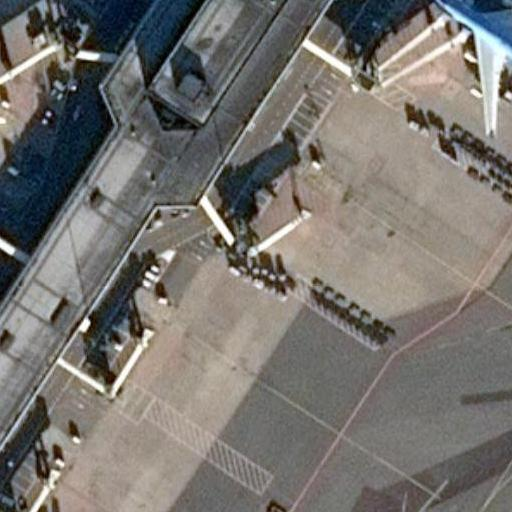Aircraft: (424, 0, 512, 134), (0, 0, 12, 139)
